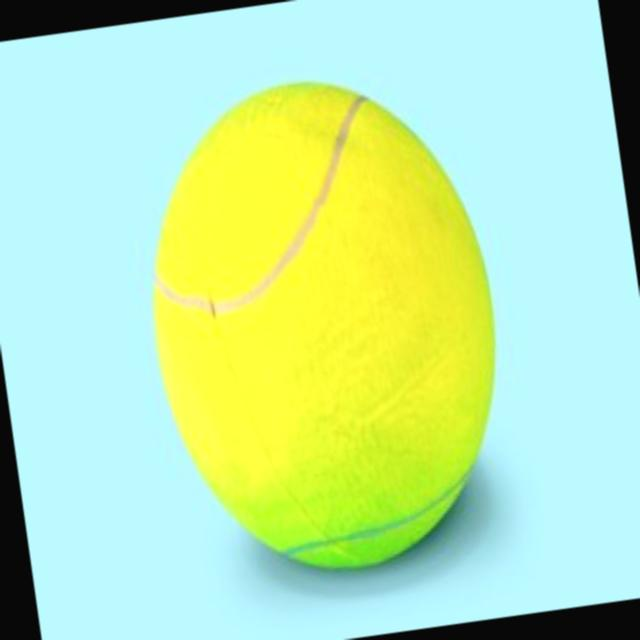Tennis Ball: (152, 84, 499, 570)
